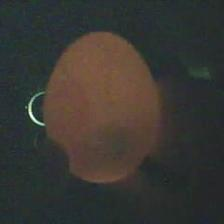fertile: (38, 24, 160, 184)
